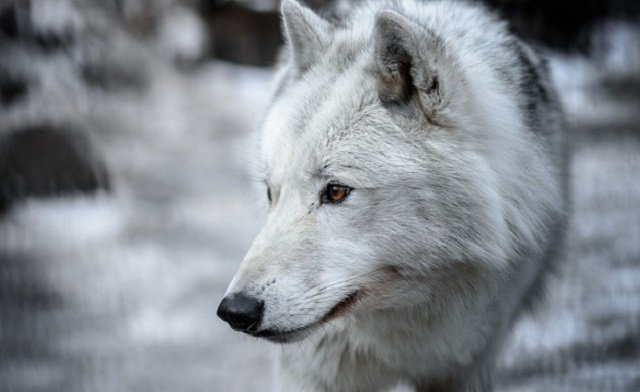Lobo: (216, 8, 548, 366)
